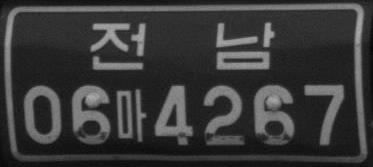0: (22, 84, 63, 144)
2: (202, 83, 245, 147)
4: (153, 83, 193, 144)
6: (252, 83, 296, 147), (69, 83, 112, 146)
7: (302, 82, 345, 146)
마: (115, 88, 146, 143)
전남_D: (90, 19, 275, 72)
